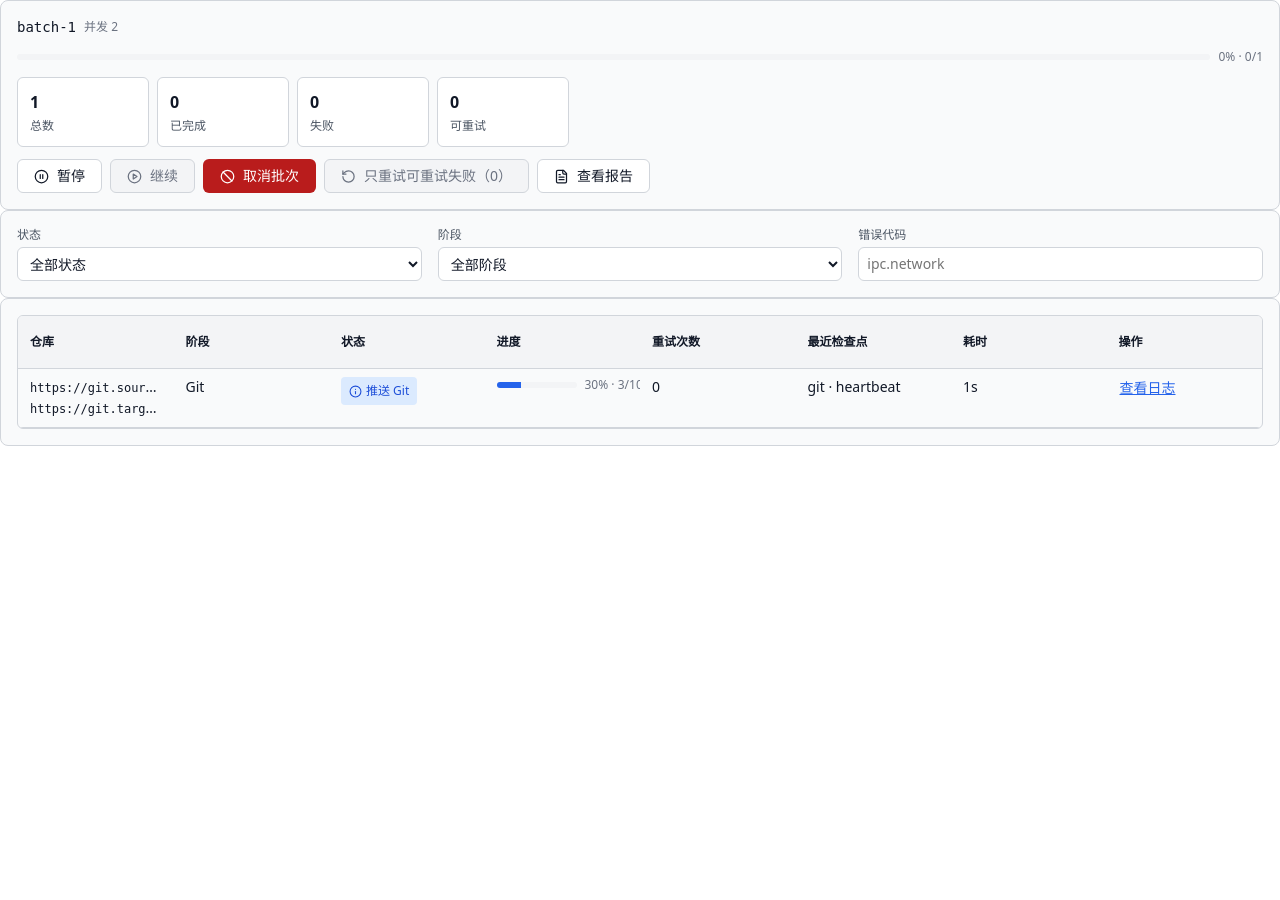
Test: 迁移队列页 › 日志抽屉说明已脱敏，并可复制错误代码
Click the button "查看日志" at (1148, 388), box x1=1118 y1=377 x2=1176 y2=399
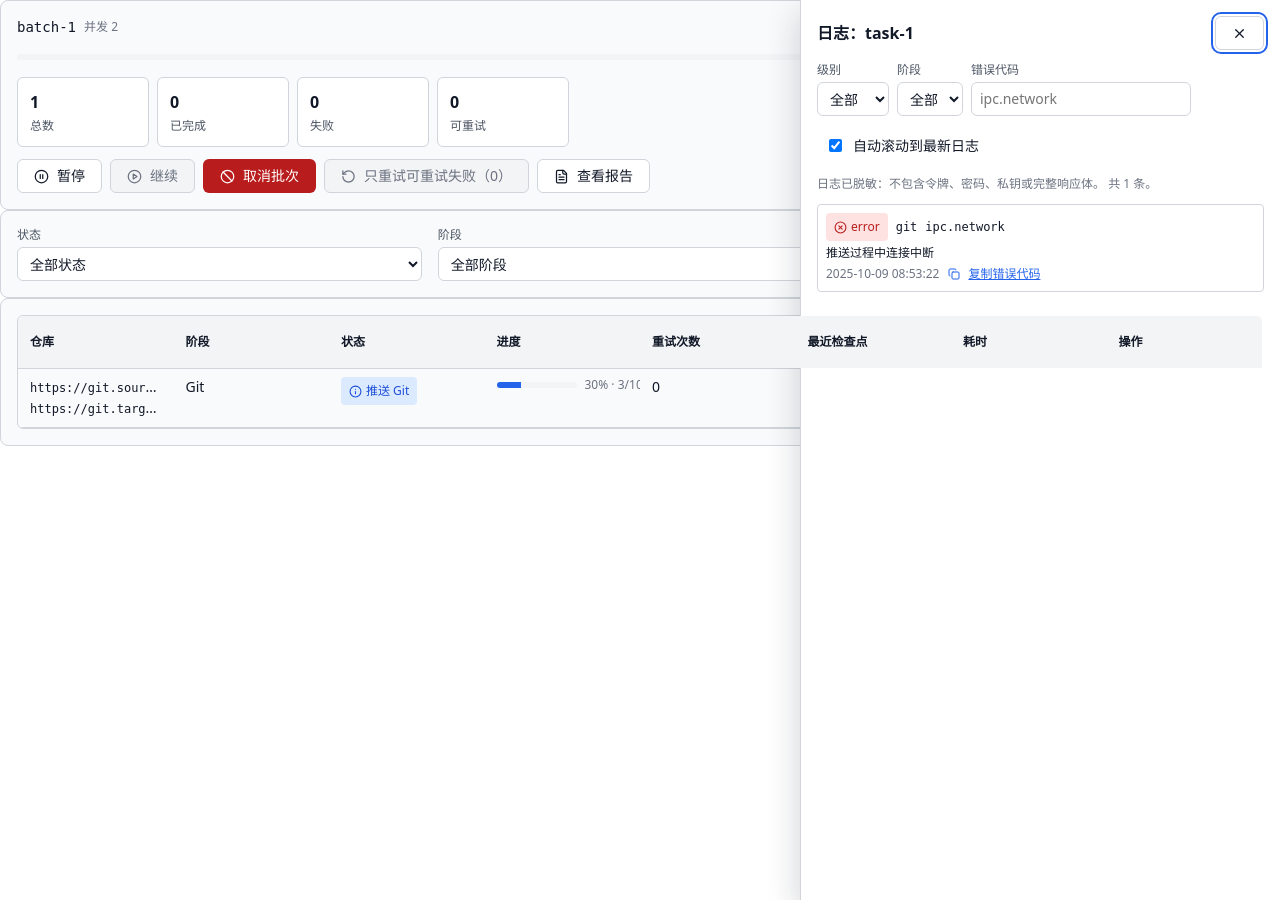
Expected: the text "日志已脱敏：不包含令牌、密码、私钥或完整响应体。 共 1 条。" is shown, x1=817 y1=175 x2=1157 y2=192
Expected: the text "推送过程中连接中断" is shown, x1=826 y1=244 x2=934 y2=261
Expected: the button with aria-label "复制错误代码 ipc.network" is shown, x1=947 y1=265 x2=1041 y2=283
